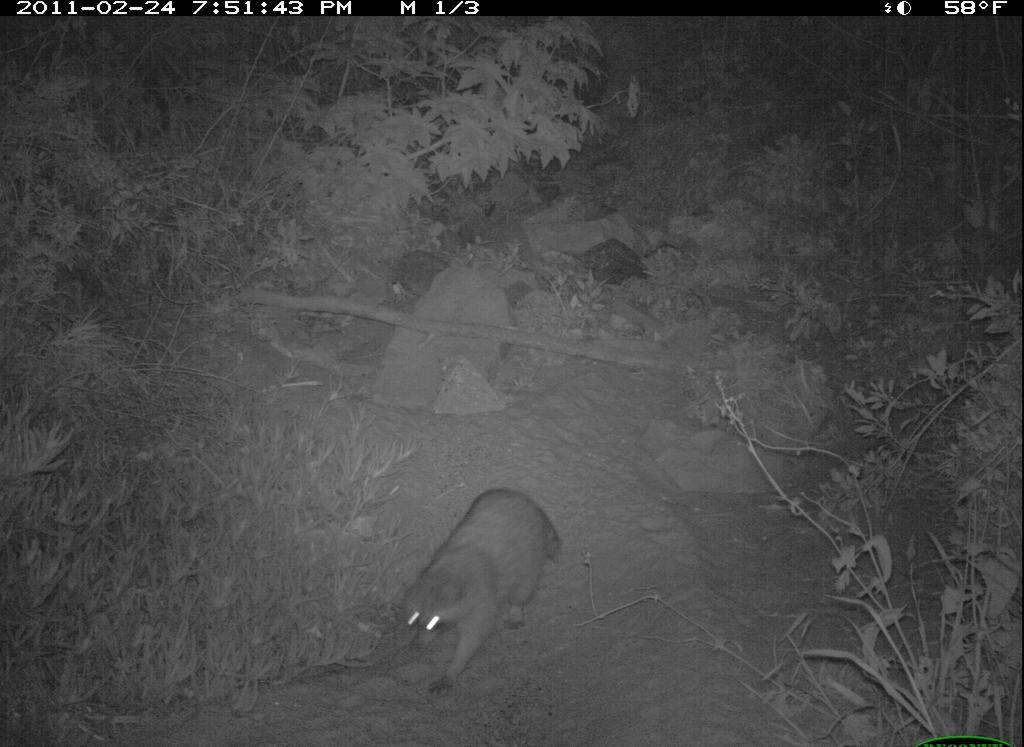raccoon: (340, 466, 589, 689)
